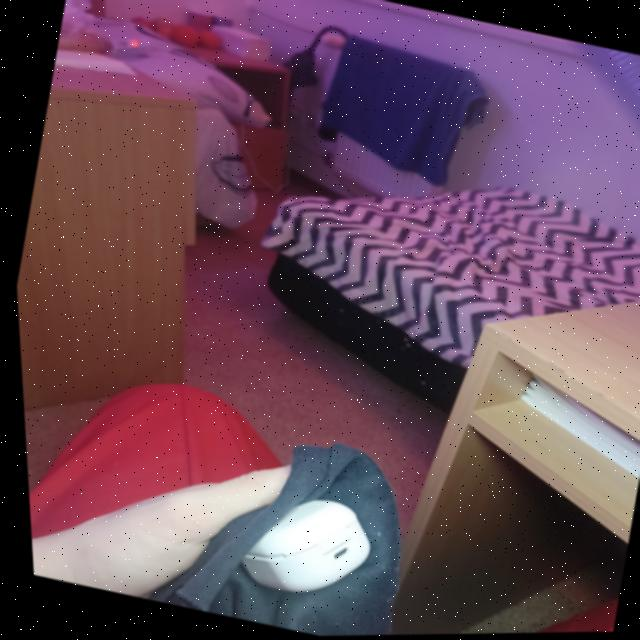headphones: (234, 501, 362, 593)
